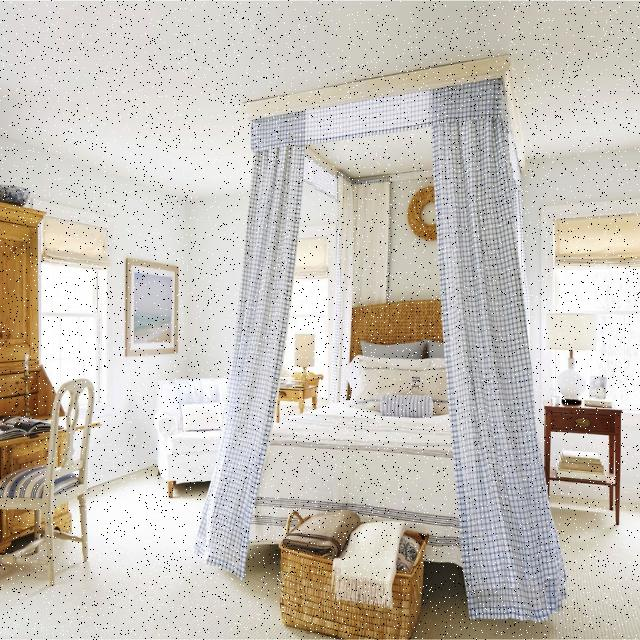bed: (268, 340, 534, 561)
